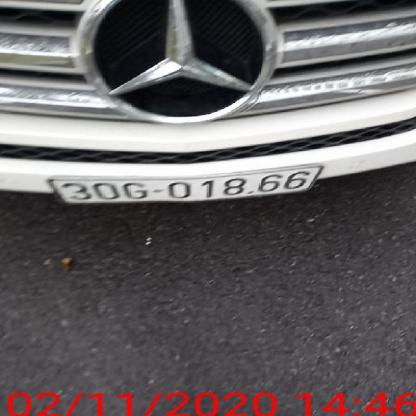biensoxe: (53, 170, 327, 204)
